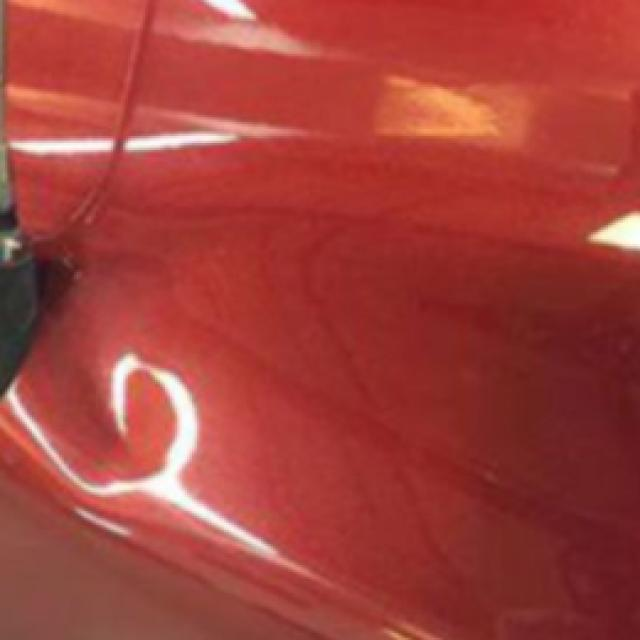dents: (36, 327, 243, 529)
